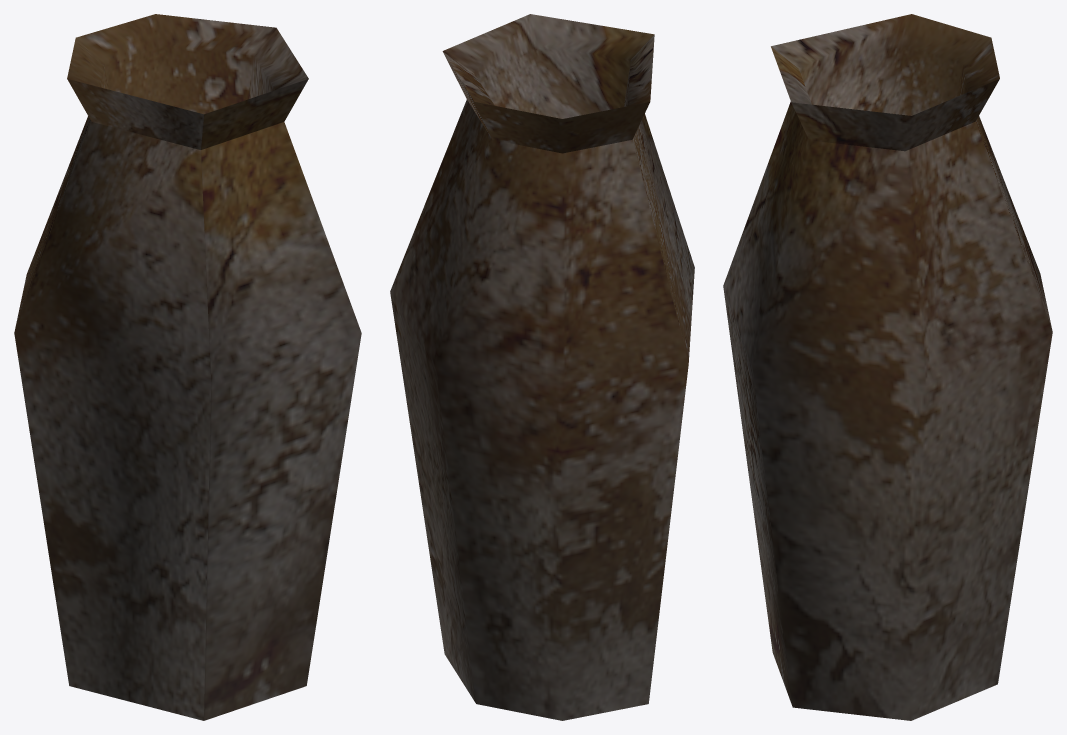
Rendered from Jug1_LOD1.fbx.
3 renders of one model, left to right at view 1: azimuth 30°, elevation 25°; view 2: azimuth 150°, elevation 25°; view 3: azimuth 270°, elevation 25°, orthographic.
Visible parts, largest first — view 1: dzban2; view 2: dzban2; view 3: dzban2.
Part boxes in pixels (box(x1,y1,x2,y2)): dzban2: box(14, 14, 361, 720); dzban2: box(390, 14, 694, 720); dzban2: box(723, 14, 1052, 720).
Bounding box in the file's own units: 1.81 × 3.5 × 1.73.
